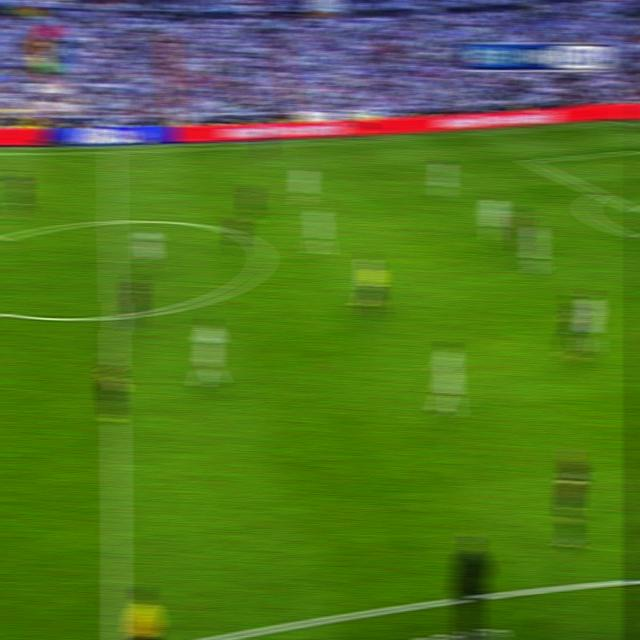bigarea_bottom_outter: (591, 186, 606, 200)
halfcircle_bottom: (104, 302, 124, 330)
halfcircle_top: (103, 209, 121, 231)
midline_top_intersection: (105, 145, 119, 159)
